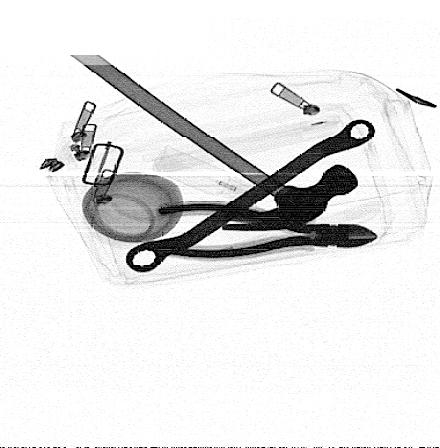Hammer: (58, 39, 357, 232)
Pliers: (153, 199, 385, 259)
Wrench: (125, 117, 378, 275)
